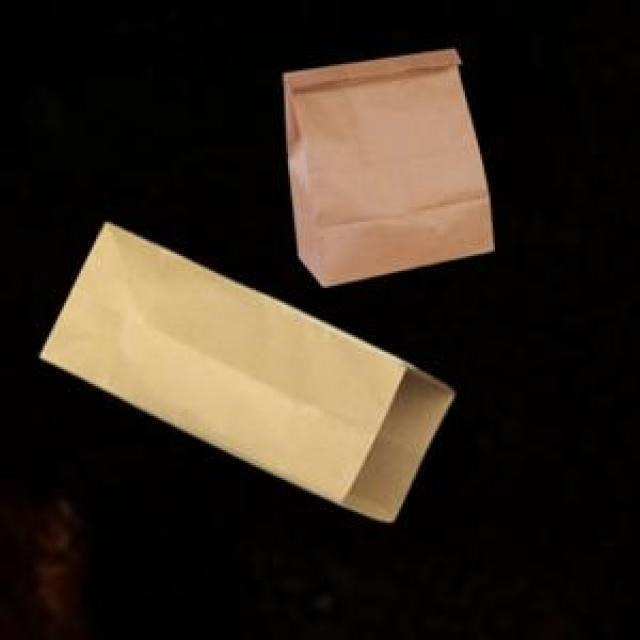paper: (36, 220, 450, 516), (280, 45, 489, 282)
